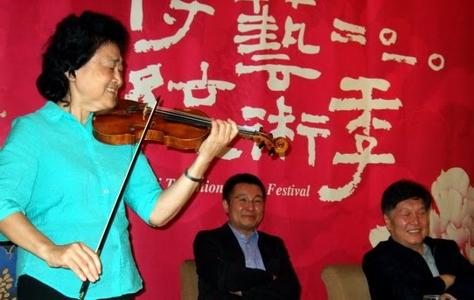person: (1, 11, 240, 300)
